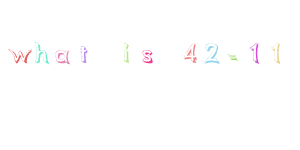-: (226, 52, 239, 61)
1: (247, 41, 261, 64), (270, 42, 282, 63)
2: (204, 43, 220, 64)
4: (182, 42, 197, 64)
a: (54, 48, 70, 63)
h: (34, 40, 49, 63)
i: (121, 42, 130, 62)
s: (141, 49, 153, 64)
t: (78, 45, 89, 63)
w: (9, 48, 31, 64)
